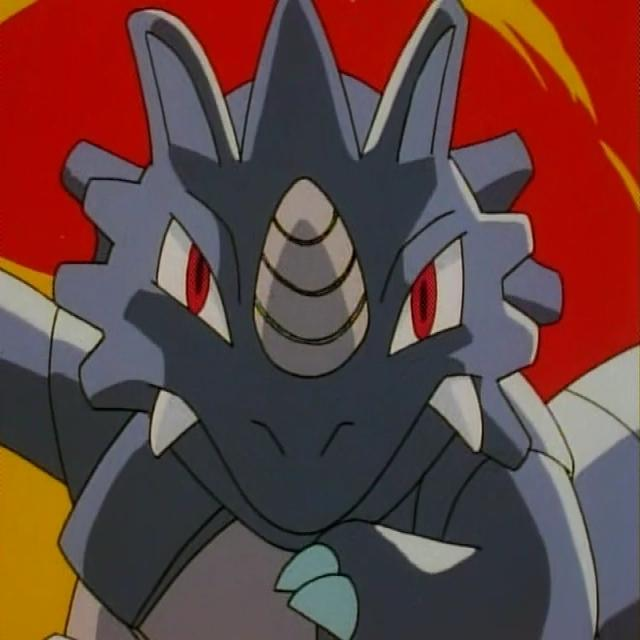Rhydon: (47, 0, 604, 635)
